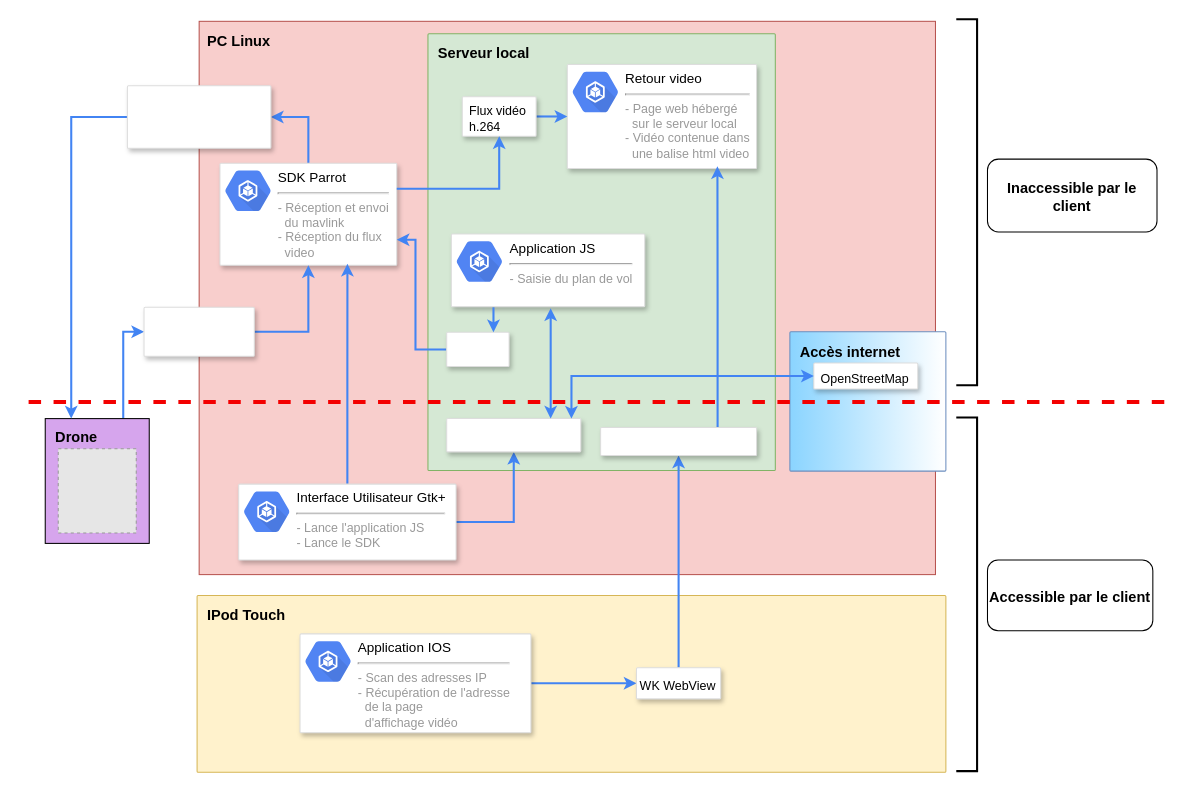
Image size: 1185x790. Some labels were removed from this diagram. Grey dashed boxes stand in for pictures. The centre of each missing label's shape, as x and y in pixels:
- Connexion au drone - Exécution plan de vol - Arrêt urgence: point (199, 118)
- Flux vidéo - État du drone: point (200, 332)
Fichier MavLink: point (478, 350)
Page d'affichage vidéo: point (679, 442)
Page web de saisie interactive: point (514, 436)
